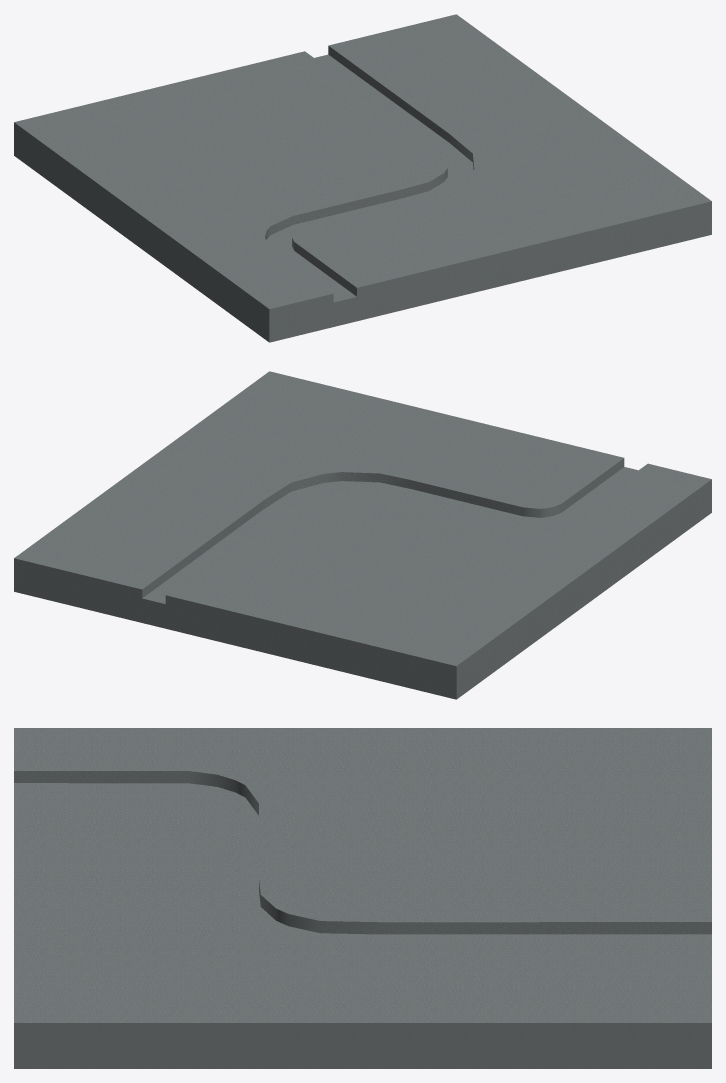
Rendered from ステージ3.fbx.
3 renders of one model, top to bottom at view 1: azimuth 30°, elevation 25°; view 2: azimuth 150°, elevation 25°; view 3: azimuth 270°, elevation 25°, orthographic. The views are drawn at different scales.
Visible parts, largest first — view 1: polySurface2, polySurface1, pCube8; view 2: polySurface2, polySurface1, pCube8; view 3: polySurface2, polySurface1, pCube8.
Boxes of the visible parts, bbox=[...] form: polySurface2: bbox=[14, 51, 447, 317]; polySurface1: bbox=[292, 14, 711, 296]; pCube8: bbox=[14, 54, 711, 342]; polySurface2: bbox=[165, 463, 711, 674]; polySurface1: bbox=[14, 371, 624, 598]; pCube8: bbox=[14, 467, 711, 699]; polySurface2: bbox=[14, 728, 711, 934]; polySurface1: bbox=[14, 786, 711, 1035]; pCube8: bbox=[14, 783, 711, 1068].
Bounding box in the file's own units: 18.89 × 1.37 × 18.89.
3 materials, 3 textured.
